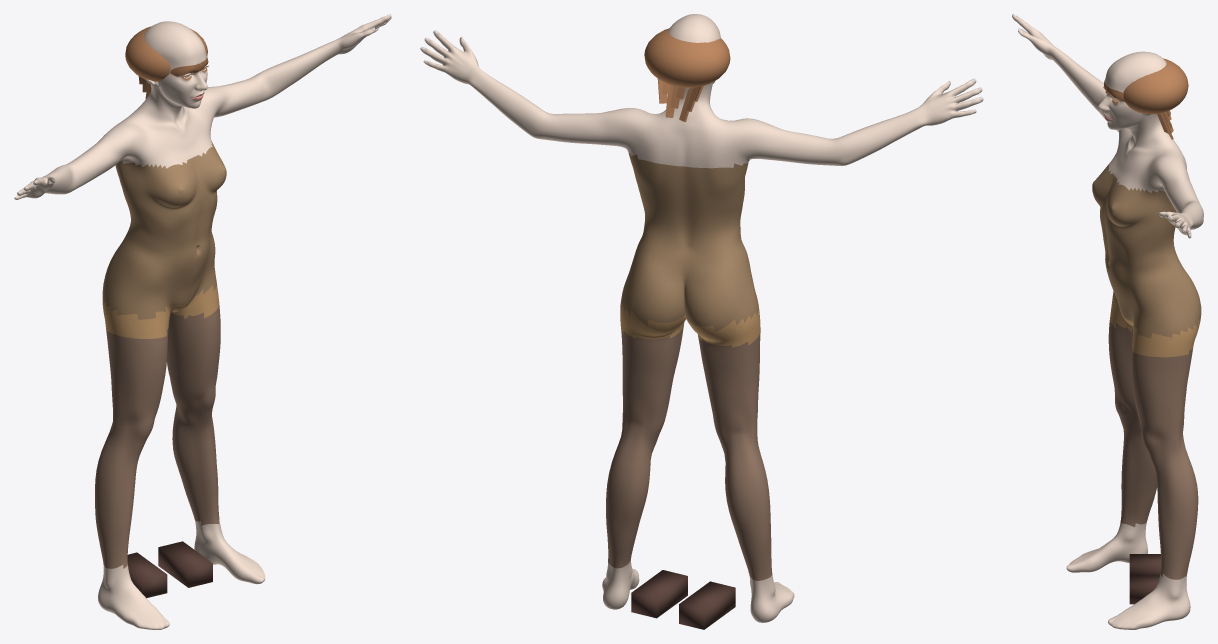
File: hm_ped_ivy_v13.glb
The picture shows the model from 3 angles, left to right: view 1: azimuth 30°, elevation 25°; view 2: azimuth 150°, elevation 25°; view 3: azimuth 270°, elevation 25°; orthographic projection. The views are drawn at different scales.
Visible parts, largest first — view 1: hm_ped_ivy; view 2: hm_ped_ivy; view 3: hm_ped_ivy.
Part boxes in pixels (bbox=[...]): hm_ped_ivy: bbox=[14, 14, 391, 629]; hm_ped_ivy: bbox=[420, 14, 983, 629]; hm_ped_ivy: bbox=[1012, 14, 1203, 629].
Size of the model in its own units: 1.4 by 1.66 by 0.5367.
